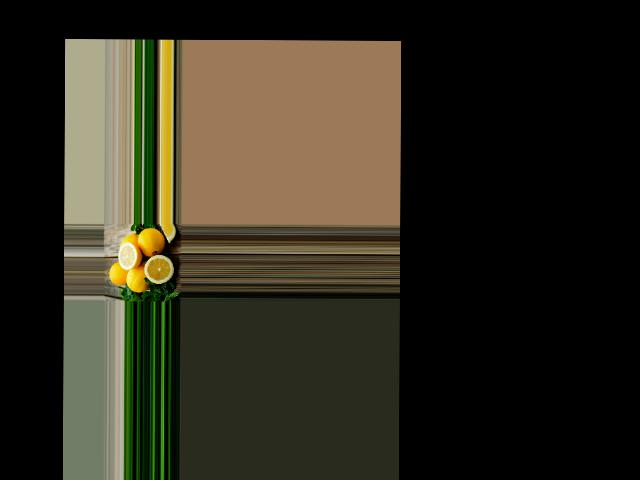lemon: (120, 232, 140, 248)
